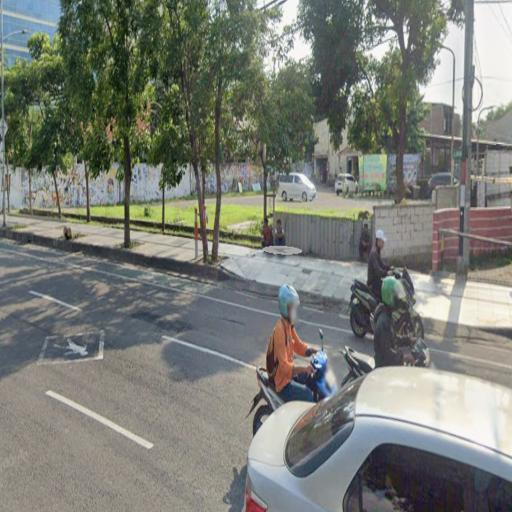Helmet: (382, 277, 406, 310), (278, 284, 299, 319)
Motor: (248, 368, 284, 435), (393, 268, 424, 339), (342, 347, 374, 386)
